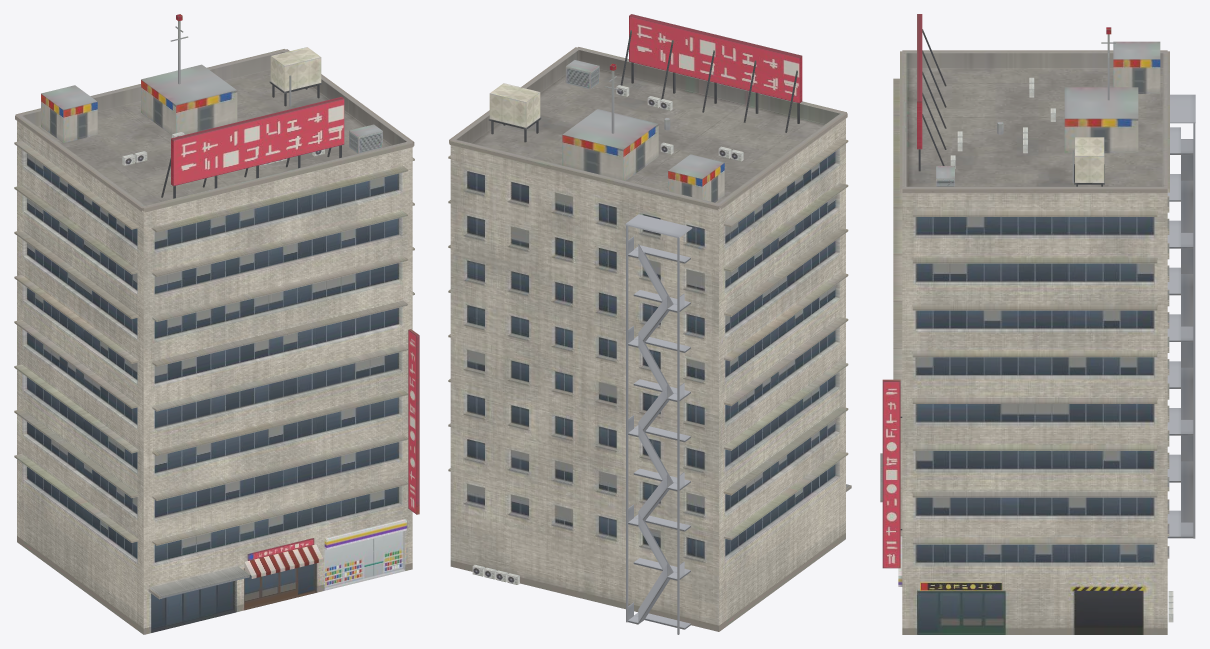
The model's file is tokyo_midrise_a.glb.
3 renders of one model, left to right at view 1: azimuth 30°, elevation 25°; view 2: azimuth 150°, elevation 25°; view 3: azimuth 270°, elevation 25°, orthographic. The views are drawn at different scales.
Parts seen in each view (by area): view 1: tokyo_midrise_a; view 2: tokyo_midrise_a; view 3: tokyo_midrise_a.
Part boxes in pixels (box(x1,y1,x2,y2)): tokyo_midrise_a: box(14, 14, 419, 634); tokyo_midrise_a: box(448, 14, 851, 634); tokyo_midrise_a: box(880, 14, 1195, 634).
Size of the model in its own units: 23.2 by 40.25 by 21.4.
Materials: 1 (1 with a texture image).
